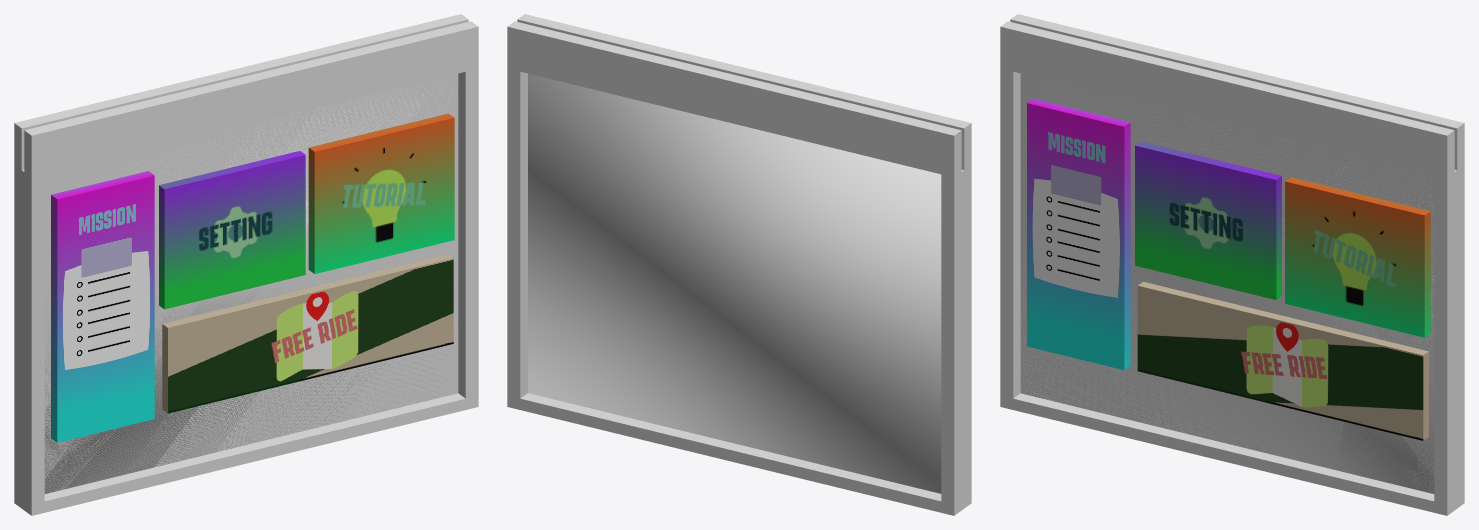
File: UIMainMenu.fbx
The picture shows the model from 3 angles, left to right: view 1: azimuth 30°, elevation 25°; view 2: azimuth 150°, elevation 25°; view 3: azimuth 330°, elevation 25°; orthographic projection.
Visible parts, largest first — view 1: Window frame, Emissive window.001, Cube, Missions, Tutorial, Setting; view 2: Emissive window.001, Window frame; view 3: Window frame, Emissive window.001, Cube, Missions, Tutorial, Setting.
Part boxes in pixels (left/top/right/bottom): Window frame: left=14, top=14, right=478, bottom=515; Emissive window.001: left=44, top=73, right=458, bottom=493; Cube: left=162, top=254, right=453, bottom=413; Missions: left=51, top=171, right=154, bottom=442; Tutorial: left=308, top=113, right=454, bottom=273; Setting: left=159, top=151, right=305, bottom=309; Emissive window.001: left=528, top=73, right=941, bottom=493; Window frame: left=507, top=14, right=971, bottom=515; Window frame: left=1000, top=14, right=1464, bottom=515; Emissive window.001: left=1020, top=73, right=1434, bottom=493; Cube: left=1137, top=281, right=1428, bottom=440; Missions: left=1027, top=98, right=1130, bottom=370; Tutorial: left=1285, top=177, right=1430, bottom=337; Setting: left=1135, top=141, right=1281, bottom=299.
Size of the model in its own units: 131 by 107 by 8.83.
Materials: 6 (4 with a texture image).
